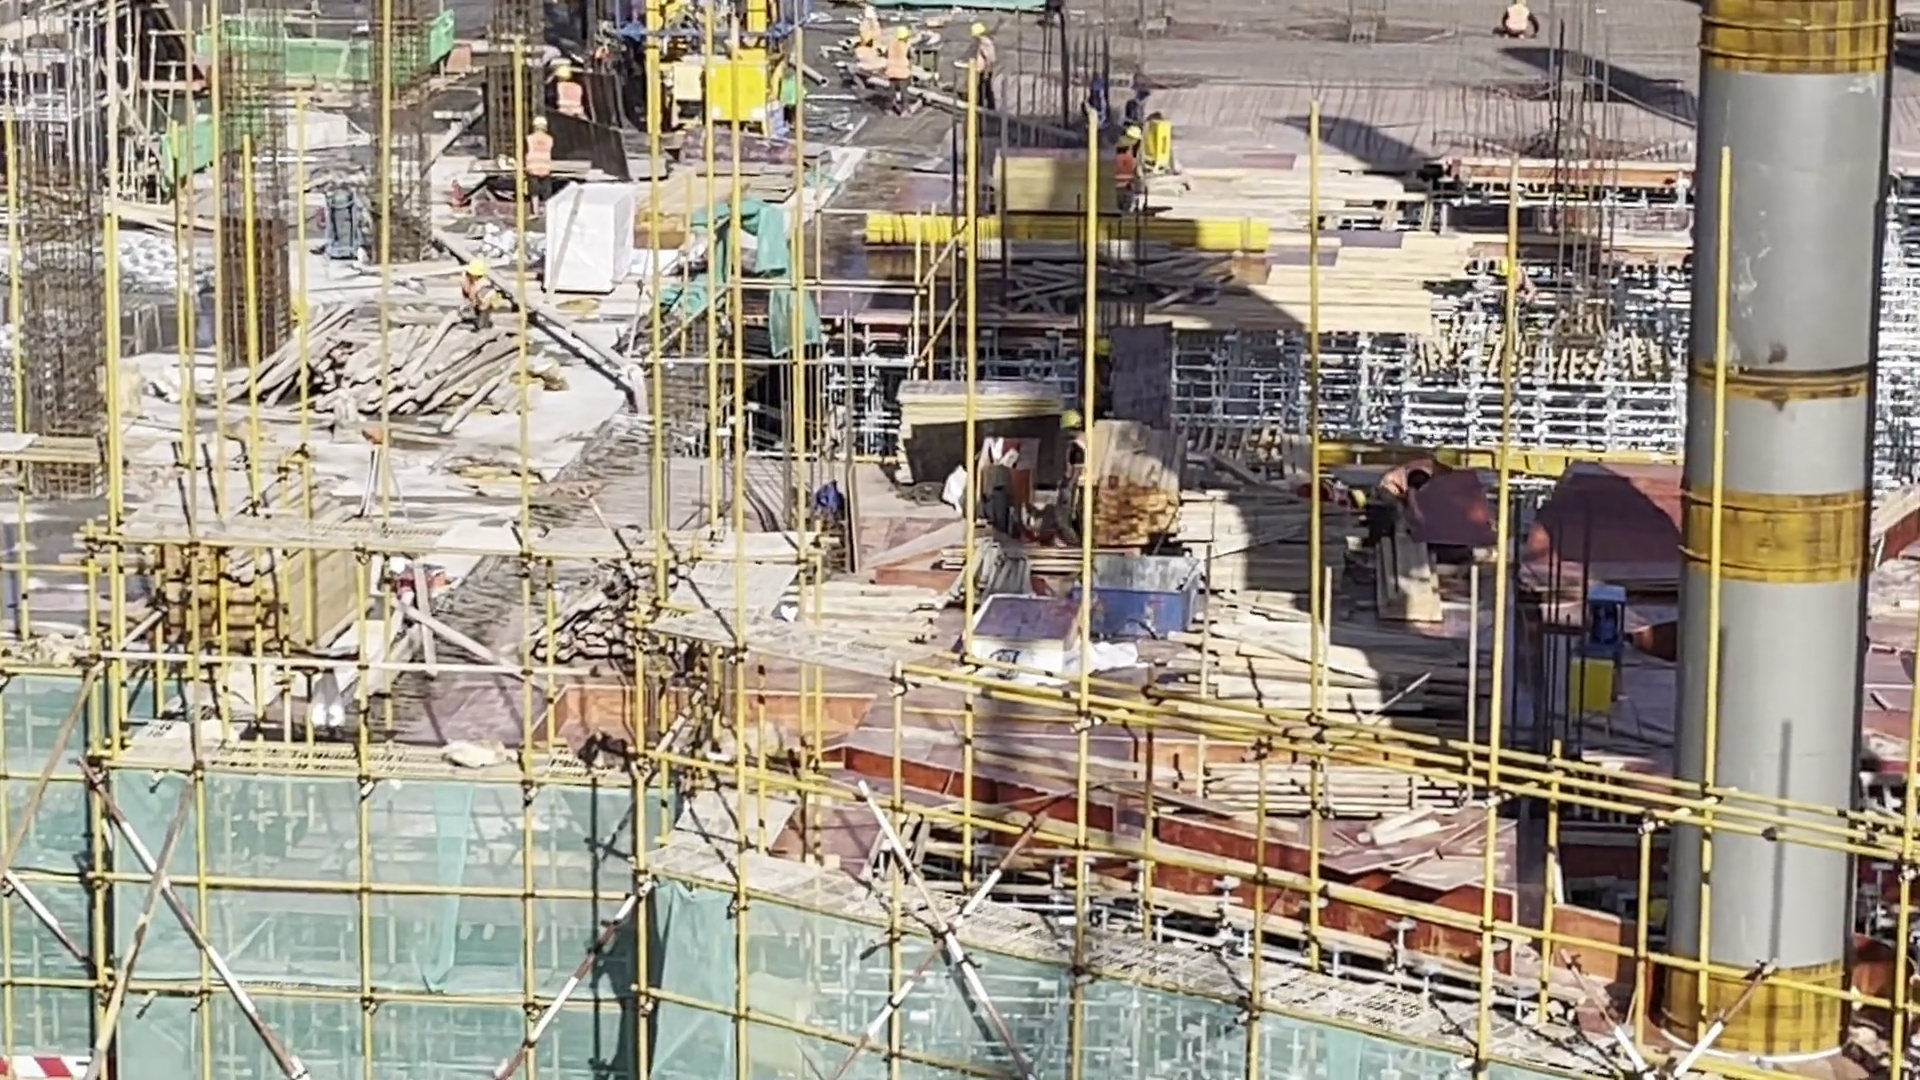helmet: (1431, 446, 1459, 474), (467, 255, 491, 281), (1115, 132, 1135, 156), (967, 23, 992, 39), (529, 115, 550, 133), (555, 65, 572, 82), (896, 27, 911, 42)
person: (1366, 449, 1464, 544), (1061, 398, 1098, 544), (958, 8, 1000, 123), (883, 30, 927, 126), (522, 112, 563, 206), (459, 259, 500, 333), (554, 63, 593, 129), (841, 6, 886, 61), (1493, 1, 1550, 43), (1111, 131, 1140, 216), (1083, 336, 1116, 406), (1083, 74, 1109, 149)
vest: (1377, 454, 1433, 508), (1063, 432, 1092, 491), (528, 132, 555, 183), (555, 82, 586, 117), (888, 39, 910, 86), (1114, 153, 1136, 194)
